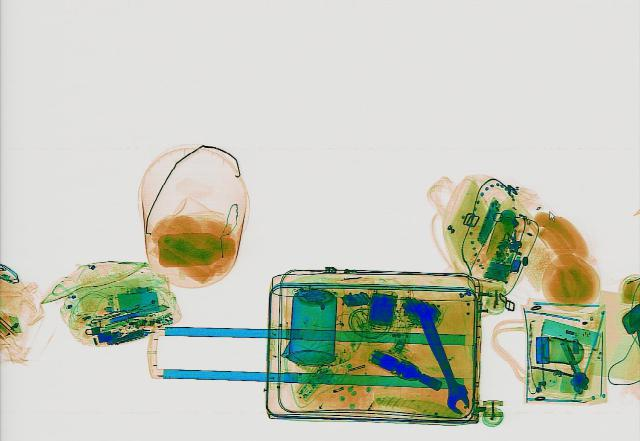Wrench: (402, 301, 476, 414)
